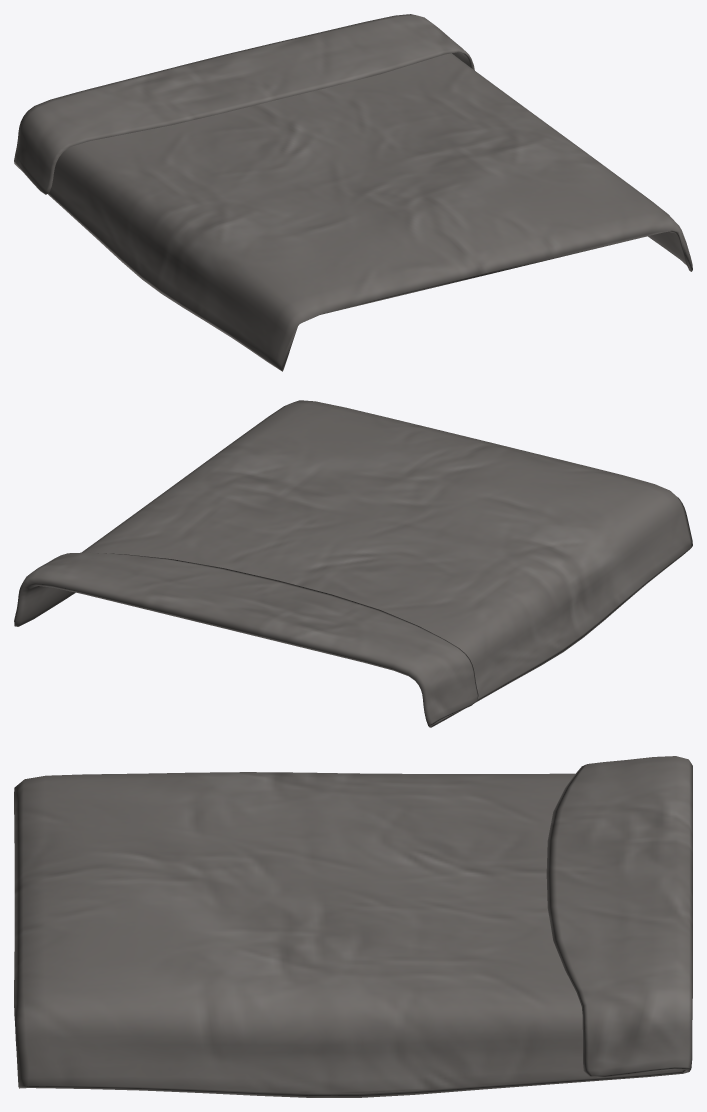
The model's file is eichhorn_2 .fbx.
3 renders of one model, top to bottom at view 1: azimuth 30°, elevation 25°; view 2: azimuth 150°, elevation 25°; view 3: azimuth 270°, elevation 25°, orthographic. The views are drawn at different scales.
Parts seen in each view (by area): view 1: eichhorn_2; view 2: eichhorn_2; view 3: eichhorn_2.
Part boxes in pixels (bbox=[...]): eichhorn_2: bbox=[14, 14, 692, 371]; eichhorn_2: bbox=[14, 400, 692, 727]; eichhorn_2: bbox=[14, 756, 692, 1097].
Bounding box in the file's own units: 1.93 × 0.3448 × 2.07.
